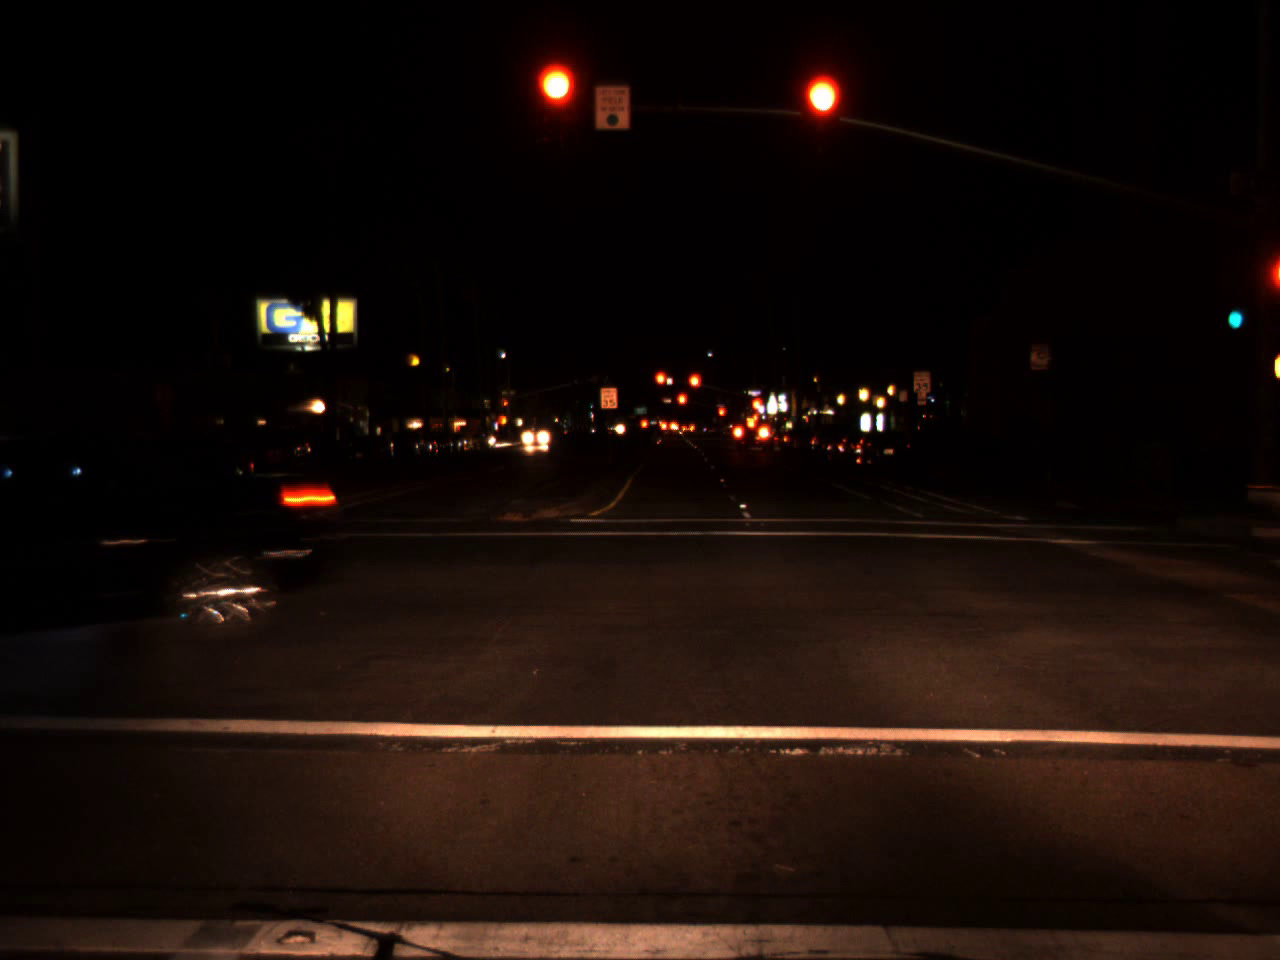stop: (537, 64, 577, 142), (801, 75, 841, 153), (653, 369, 671, 401), (686, 371, 702, 403), (676, 391, 688, 418), (749, 396, 764, 414), (717, 406, 727, 427), (503, 399, 509, 412)
